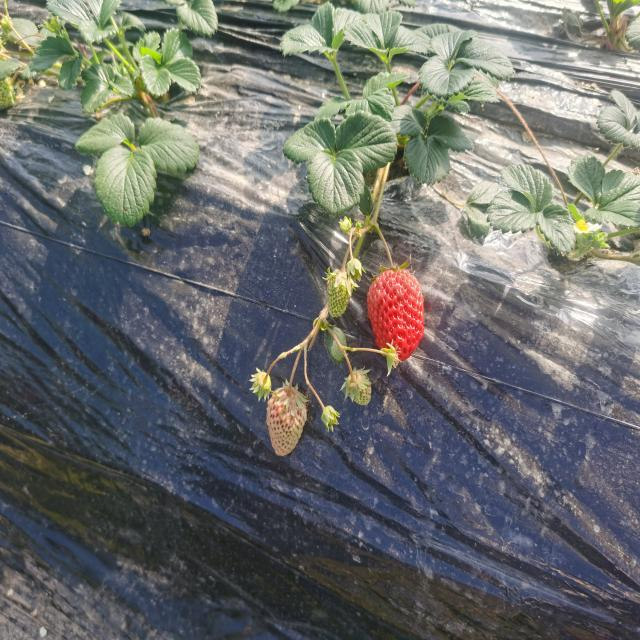stem: (381, 236, 393, 270)
strawberry: (366, 267, 424, 361)
